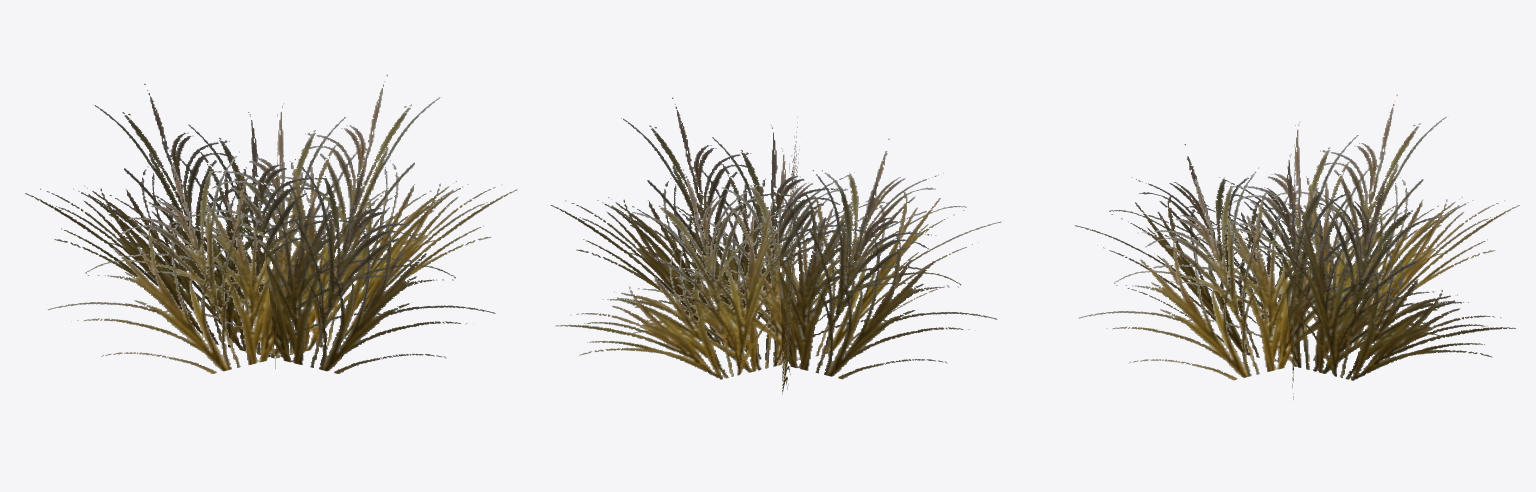
Rendered from easyGrass02.fbx.
3 views of the same model, side by side, from view 1: azimuth 30°, elevation 25°; view 2: azimuth 150°, elevation 25°; view 3: azimuth 270°, elevation 25° (orthographic). The views are drawn at different scales.
Parts seen in each view (by area): view 1: Plane, Plane.002; view 2: Plane, Plane.001, Plane.002; view 3: Plane.002, Plane.001.
Boxes of the visible parts, x1=… form: Plane: x1=47, y1=74, x2=517, y2=373; Plane.002: x1=25, y1=83, x2=495, y2=373; Plane: x1=550, y1=97, x2=997, y2=379; Plane.001: x1=555, y1=138, x2=1001, y2=379; Plane.002: x1=782, y1=117, x2=799, y2=394; Plane.002: x1=1078, y1=94, x2=1519, y2=380; Plane.001: x1=1075, y1=144, x2=1515, y2=380.
Size of the model in its own units: 200 by 100 by 177.
